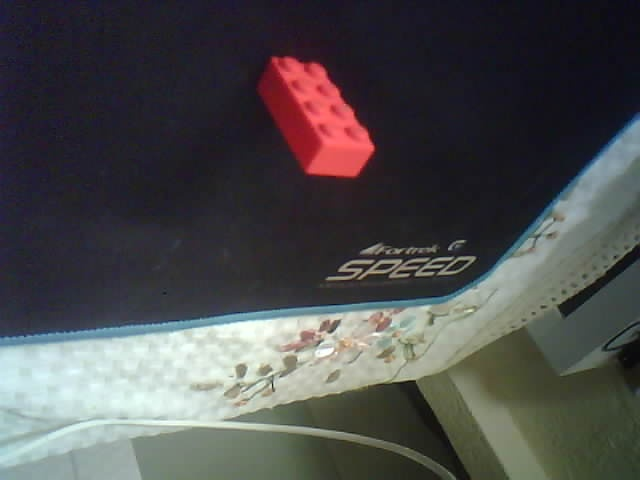lego: (253, 56, 377, 180)
